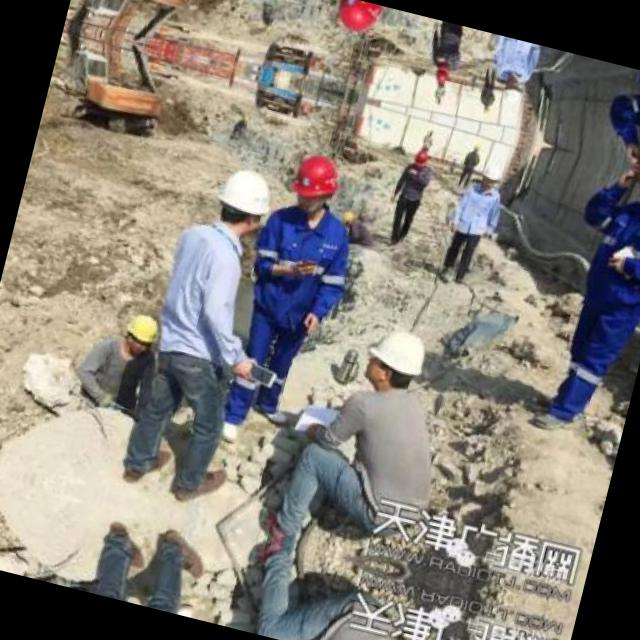helmet: (358, 318, 431, 398), (207, 161, 277, 240), (283, 144, 346, 220), (327, 0, 385, 42), (117, 308, 161, 357), (478, 160, 504, 192), (500, 75, 524, 108), (426, 60, 452, 86), (405, 146, 430, 172)
